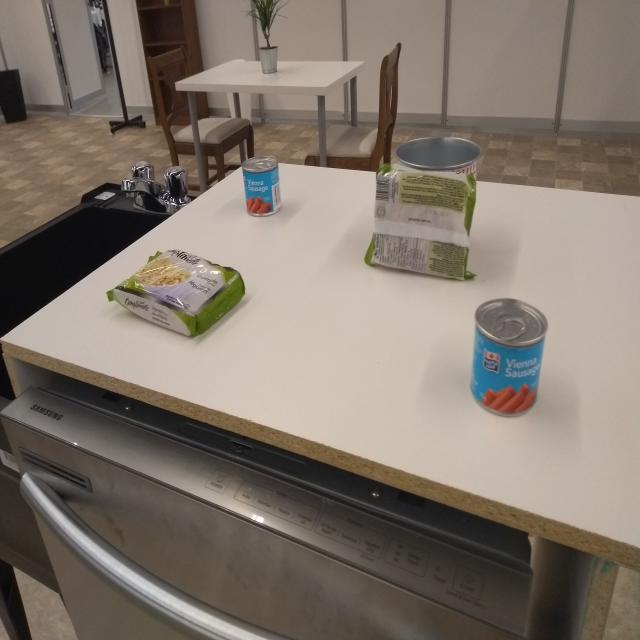noodles: (359, 164, 483, 283), (102, 244, 251, 342)
sausages: (467, 294, 551, 418), (240, 154, 285, 221)
